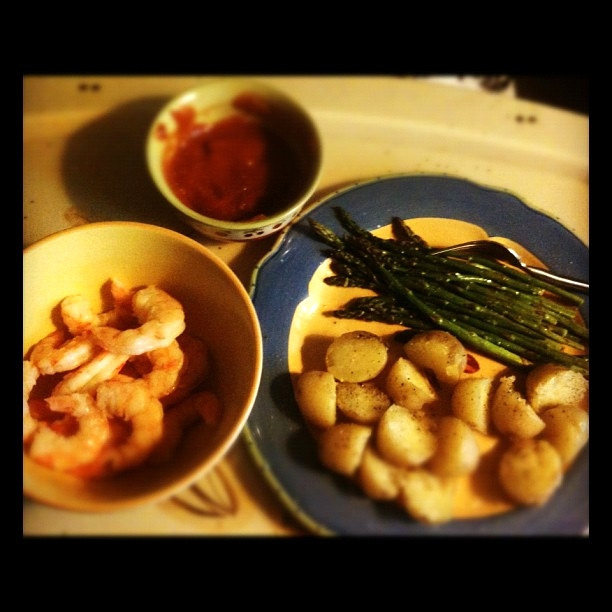boiled potatoes: (297, 325, 592, 523)
